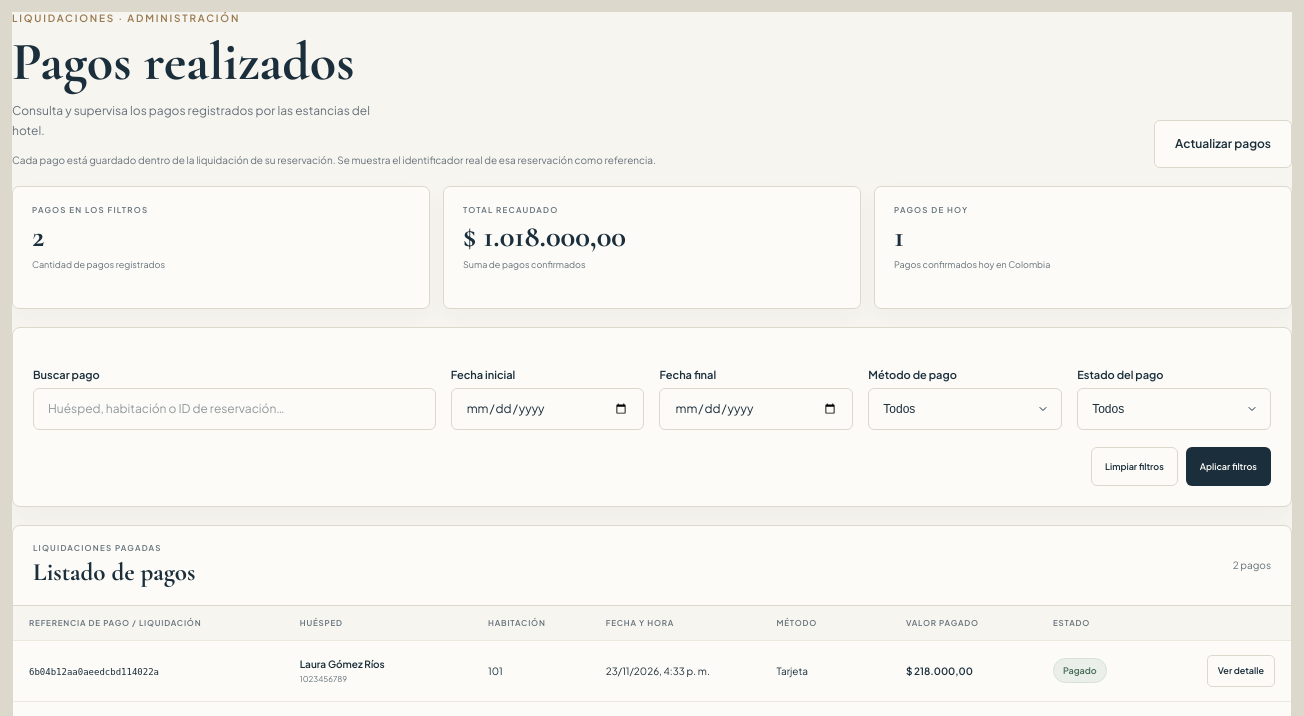
PaymentsPage › limpia los filtros y vuelve a consultar sin ellos
Expected: the text "Laura Gómez Ríos" is shown, [300, 658, 385, 670]
In the search field labelled "Buscar pago": (234, 409) [33, 388, 436, 430], type "Carlos"
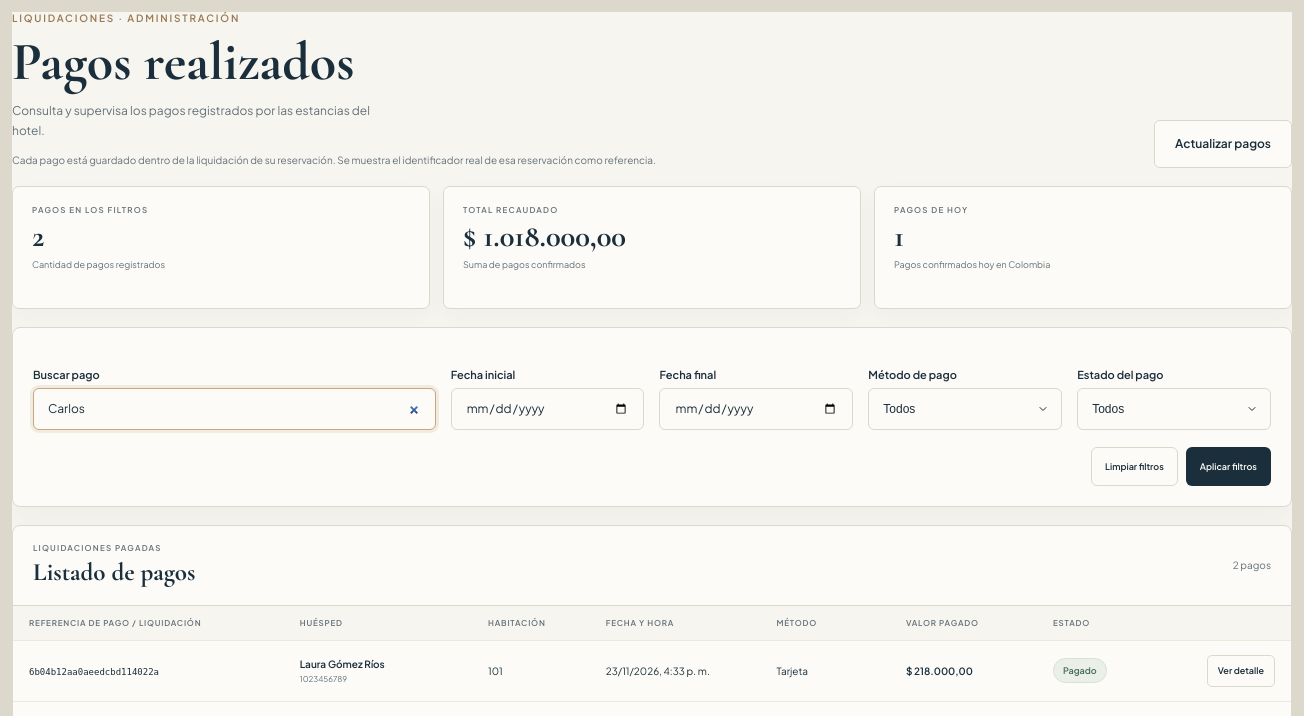
Click the button "Aplicar filtros": (1228, 466) [1186, 447, 1271, 486]
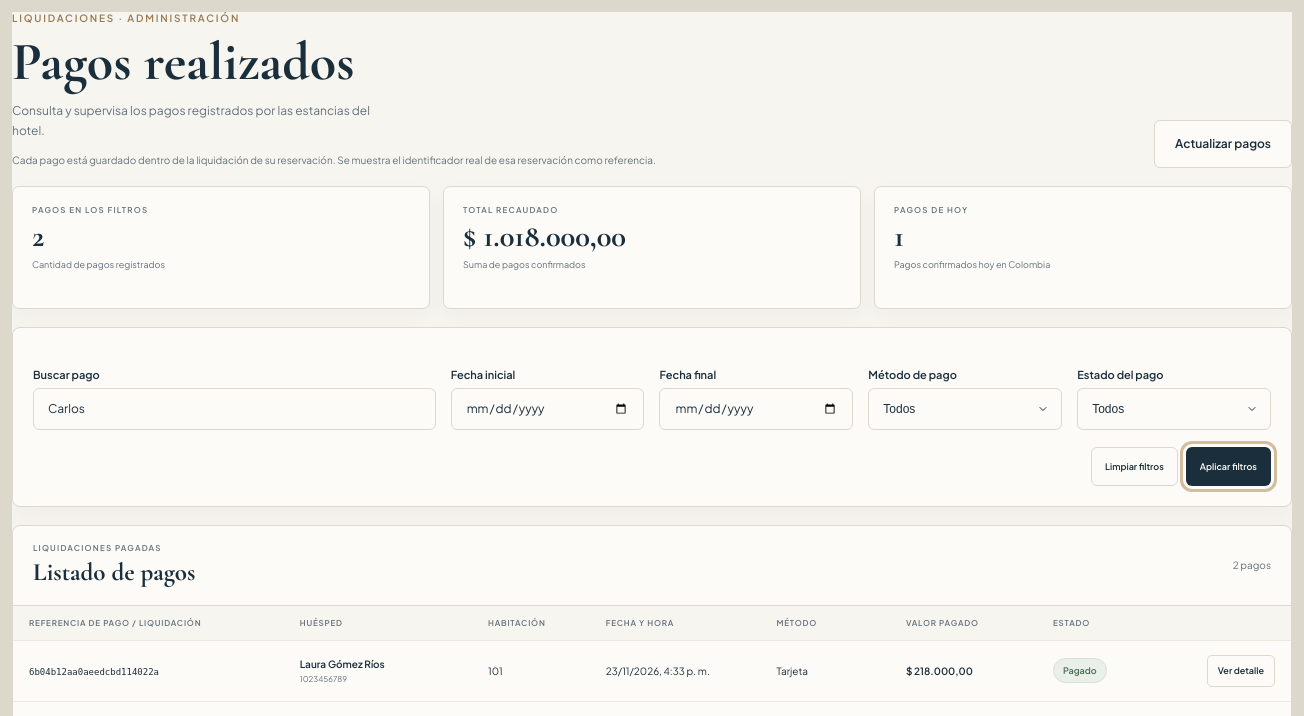
Click the button "Limpiar filtros": (1134, 466) [1091, 447, 1178, 486]
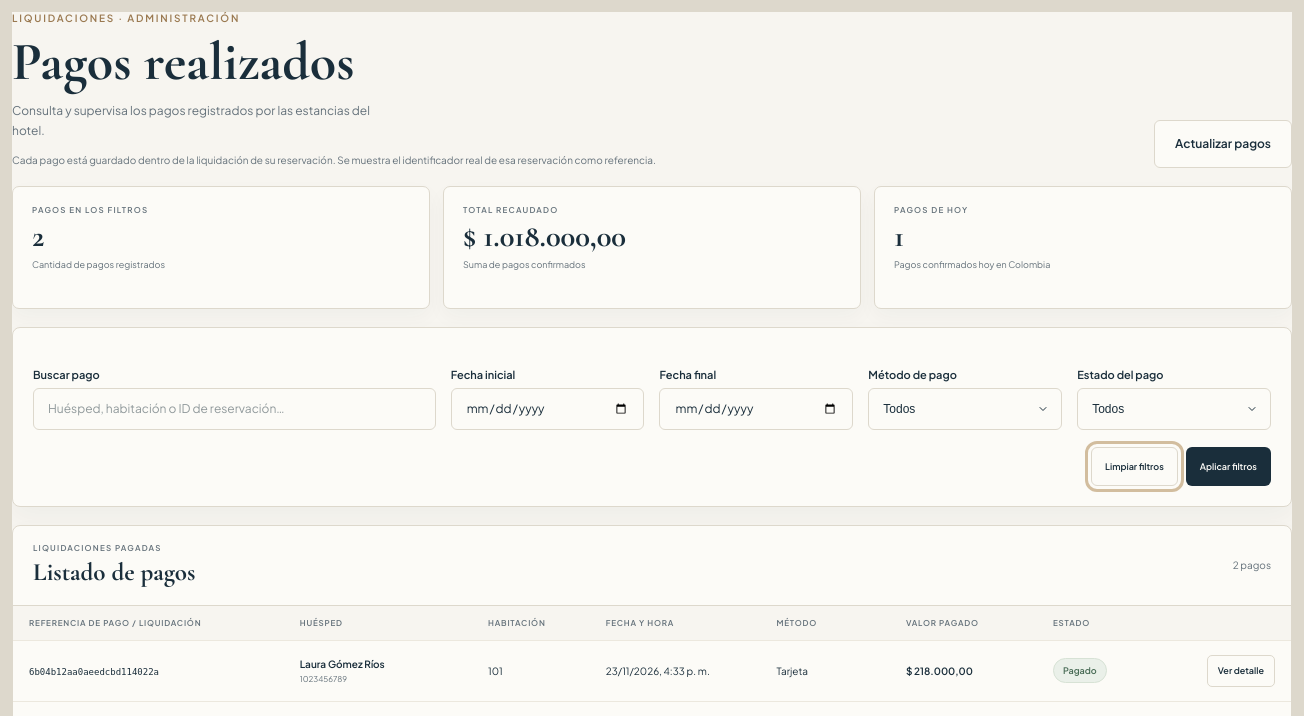
Now the search field labelled "Buscar pago" is empty, box [33, 388, 436, 430]
